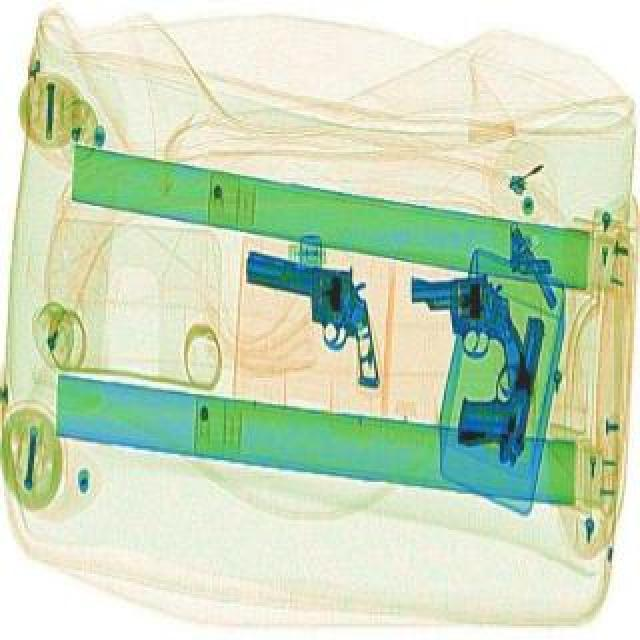gun: (226, 254, 406, 394), (452, 312, 552, 472), (410, 274, 534, 398)
